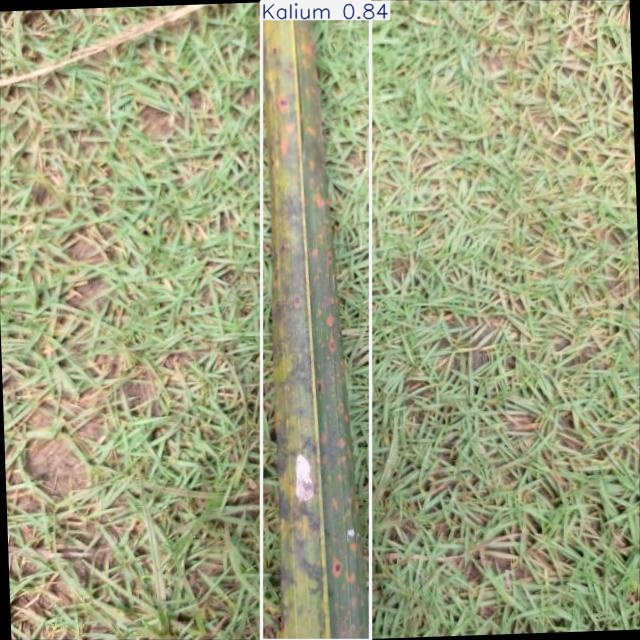Kalium: (261, 1, 371, 640)
